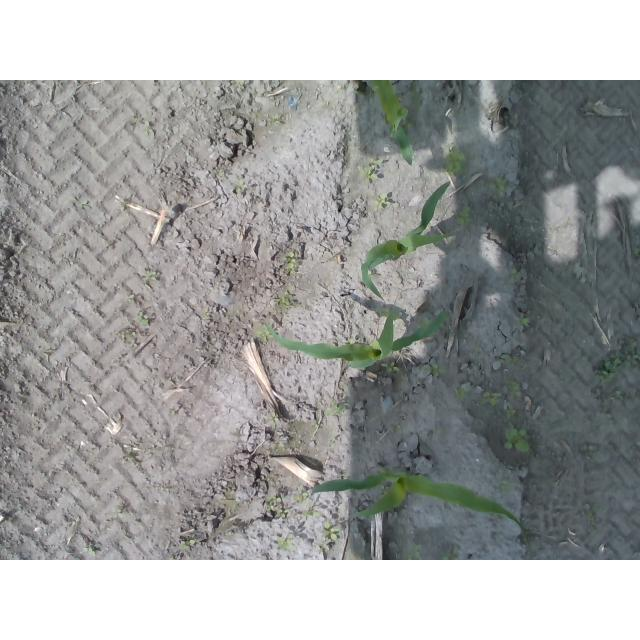Maize: (312, 463, 529, 546), (360, 179, 456, 303), (266, 308, 449, 368), (365, 81, 416, 163)
Weeds: (599, 356, 630, 385), (442, 143, 466, 177), (502, 424, 530, 452), (264, 494, 288, 518), (360, 159, 385, 182), (325, 398, 351, 418), (626, 337, 639, 366), (324, 521, 340, 544), (480, 391, 500, 408), (131, 312, 152, 328), (456, 205, 473, 224), (285, 250, 297, 274), (405, 542, 421, 560), (377, 191, 392, 209), (382, 361, 401, 375), (414, 85, 426, 106), (504, 409, 516, 428), (509, 383, 523, 399), (179, 538, 196, 550), (495, 177, 508, 192), (279, 294, 293, 307), (276, 538, 290, 550), (145, 271, 160, 281), (84, 547, 97, 558), (500, 480, 512, 491), (454, 388, 464, 401), (518, 317, 531, 327), (296, 491, 308, 501), (305, 510, 320, 518), (269, 411, 279, 422), (392, 423, 403, 433), (510, 272, 522, 281), (433, 364, 441, 377), (441, 554, 457, 560), (272, 115, 281, 125), (256, 331, 268, 338), (79, 200, 87, 208)
